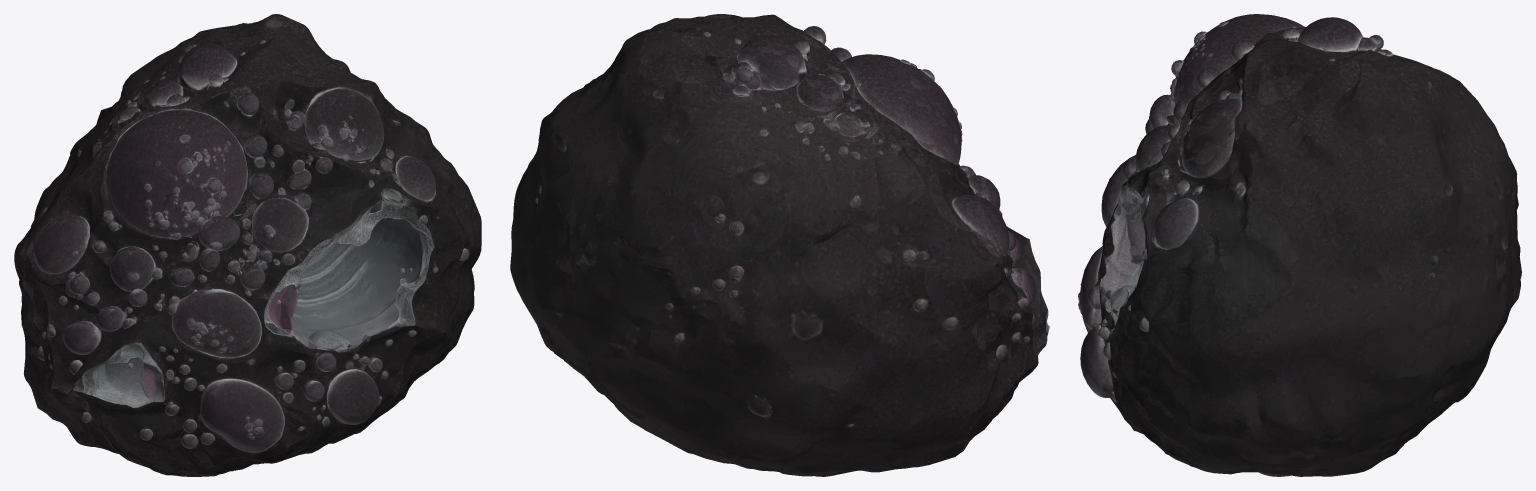
3 views of the same model, side by side, from view 1: azimuth 30°, elevation 25°; view 2: azimuth 150°, elevation 25°; view 3: azimuth 270°, elevation 25° (orthographic). The views are drawn at different scales.
Parts seen in each view (by area): view 1: Mesh_0; view 2: Mesh_0; view 3: Mesh_0.
Boxes of the visible parts, x1,y1,x2,y2 form: Mesh_0: (14,14,481,476); Mesh_0: (510,14,1049,476); Mesh_0: (1078,14,1521,476).
Size of the model in its own units: 1.9 by 1.71 by 1.55.
1 material, 1 textured.
